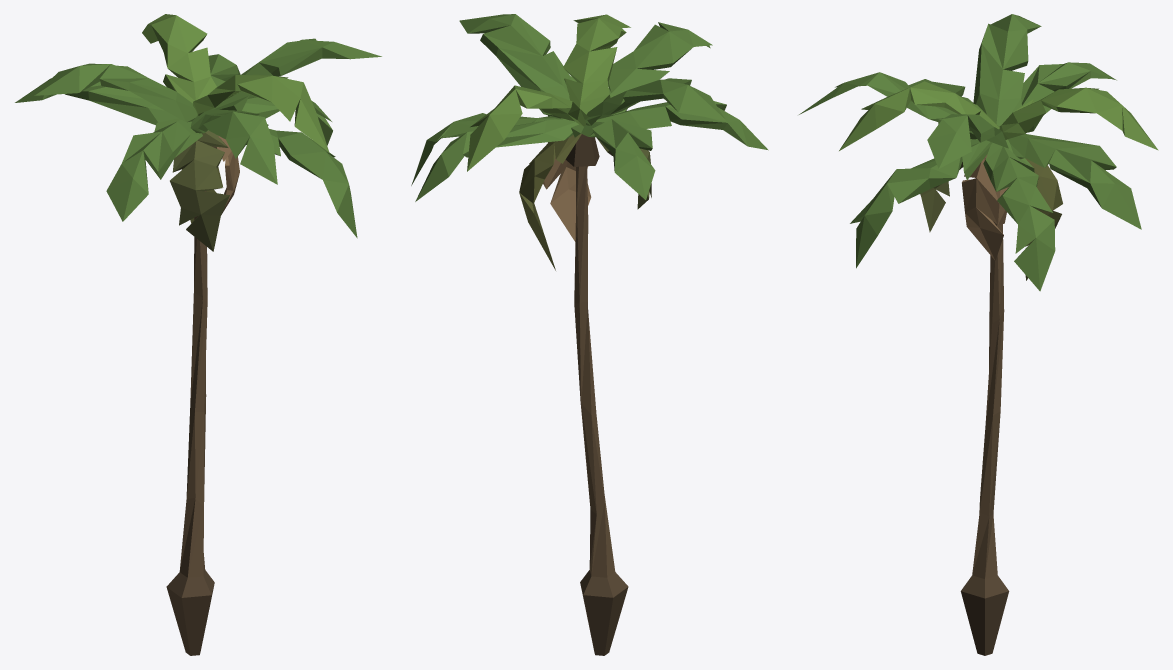
Rendered from SM_Env_PalmTree_01.glb.
3 views of the same model, side by side, from view 1: azimuth 30°, elevation 25°; view 2: azimuth 150°, elevation 25°; view 3: azimuth 270°, elevation 25° (orthographic). The views are drawn at different scales.
Parts seen in each view (by area): view 1: SM_Env_PalmTree_01_part00; view 2: SM_Env_PalmTree_01_part00; view 3: SM_Env_PalmTree_01_part00.
Boxes of the visible parts, x1,y1,x2,y2 form: SM_Env_PalmTree_01_part00: (15, 14, 381, 655); SM_Env_PalmTree_01_part00: (411, 14, 768, 655); SM_Env_PalmTree_01_part00: (799, 14, 1158, 655).
Bounding box in the file's own units: 4.98 × 9.32 × 5.17.
Materials: 1 (1 with a texture image).
